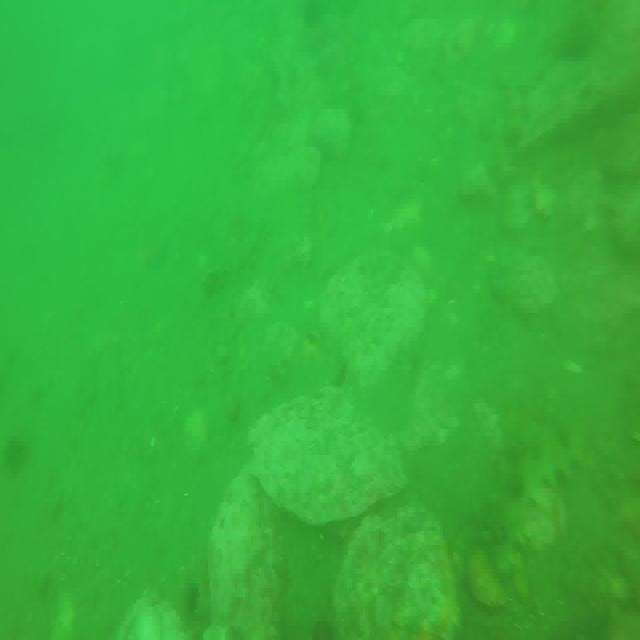holothurian: (491, 428, 576, 567)
